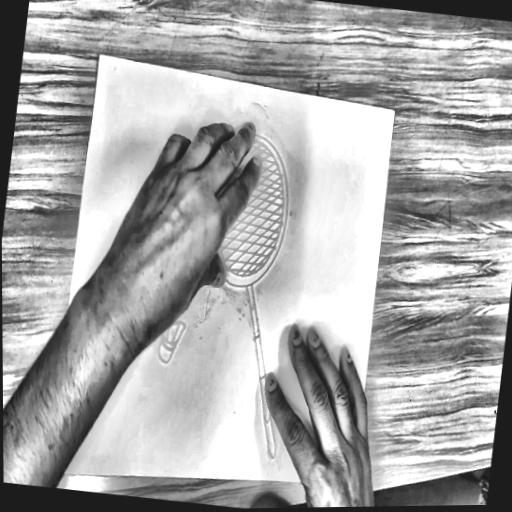badminton: (132, 116, 324, 479)
bottom_left: (348, 471, 355, 482)
bottom_right: (47, 462, 55, 473)
top_left: (391, 107, 398, 117)
top_right: (96, 49, 104, 62)
